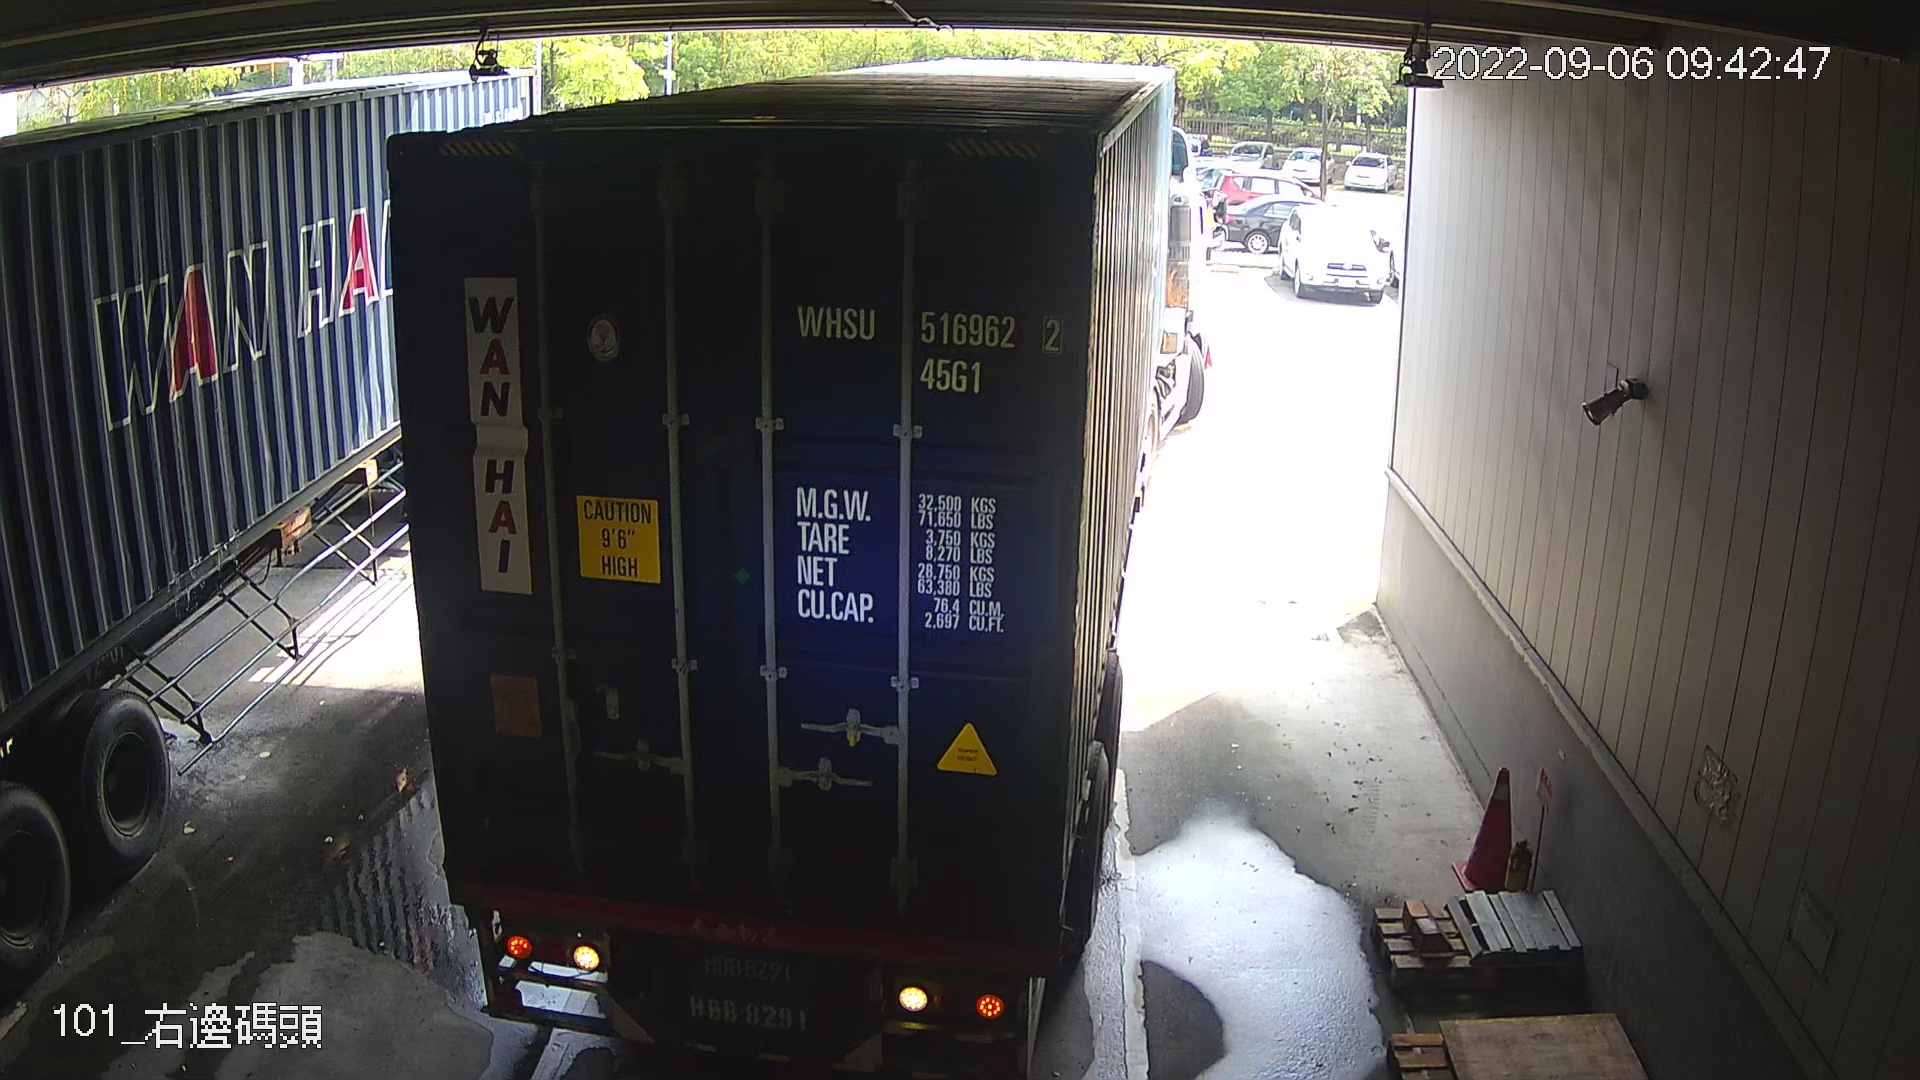container: (781, 289, 1073, 405)
